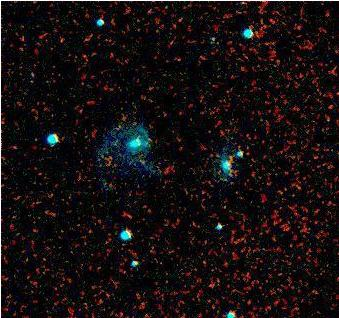star: (217, 140, 247, 170)
